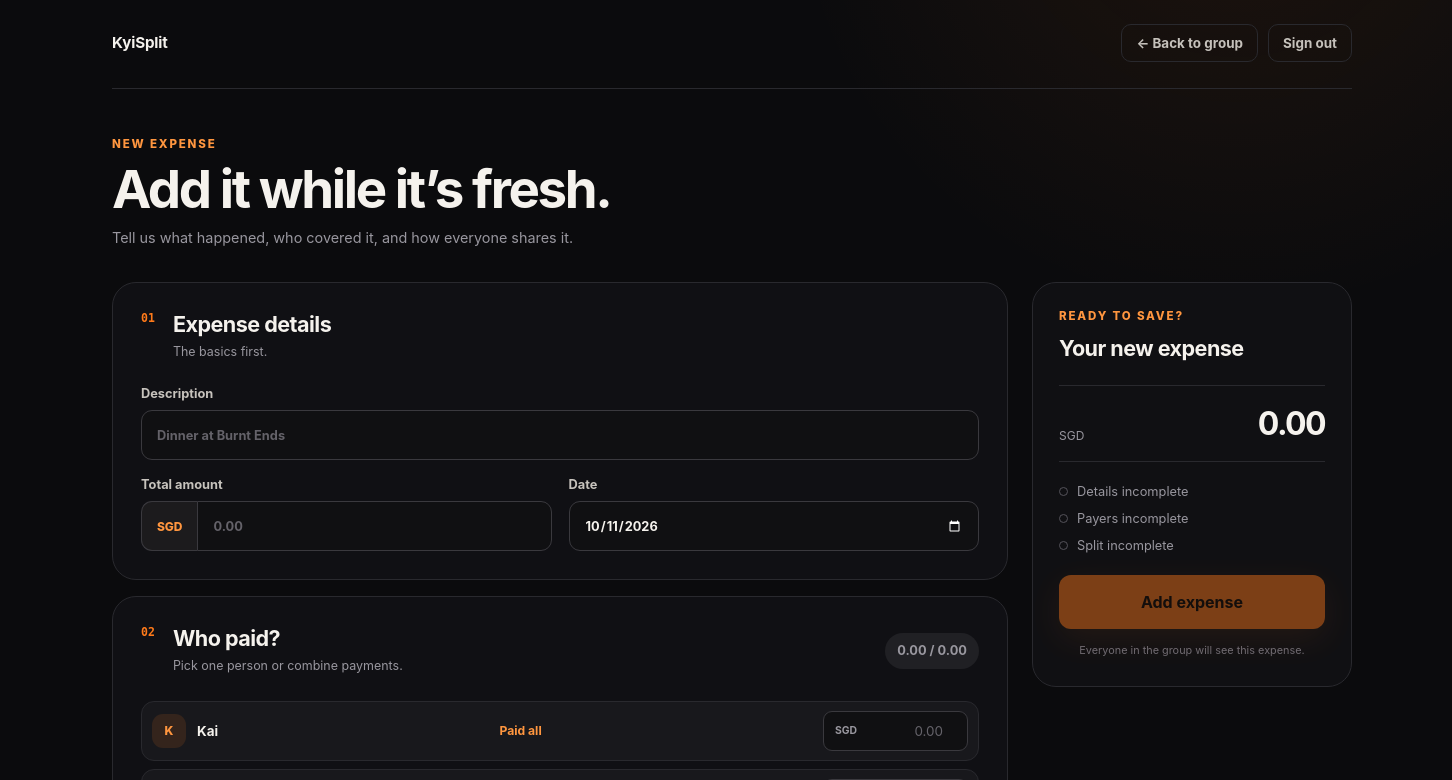
requires payer and split totals and preserves expense values on rejection
Expected: the button "Add expense" is disabled, top-left (1059, 575), bottom-right (1325, 629)
Type "Dinner" into the field labelled "Description" at x=560, y=435, box top-left (141, 410), bottom-right (979, 460)
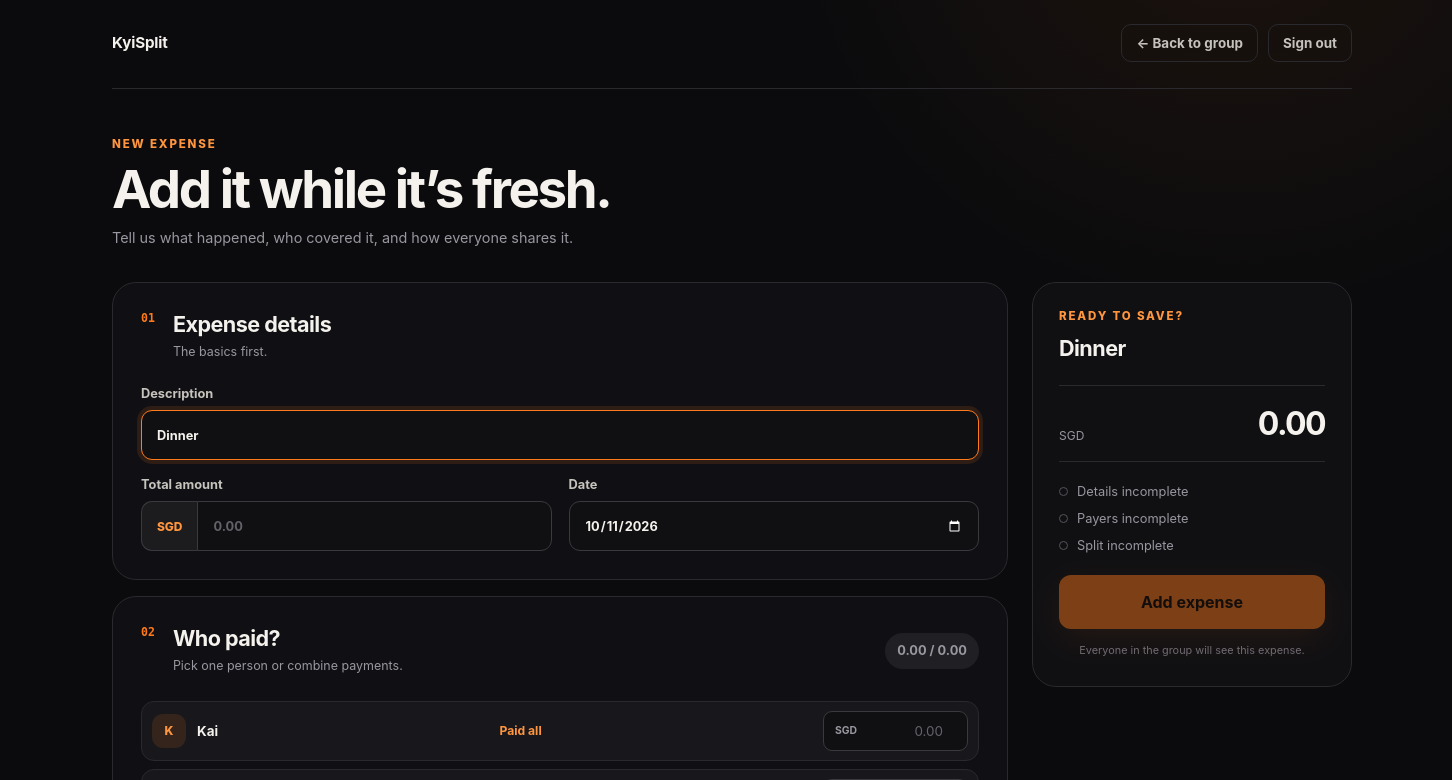
Type "10.00" into the number field labelled "Total amount" at x=374, y=526, box top-left (197, 501), bottom-right (552, 551)
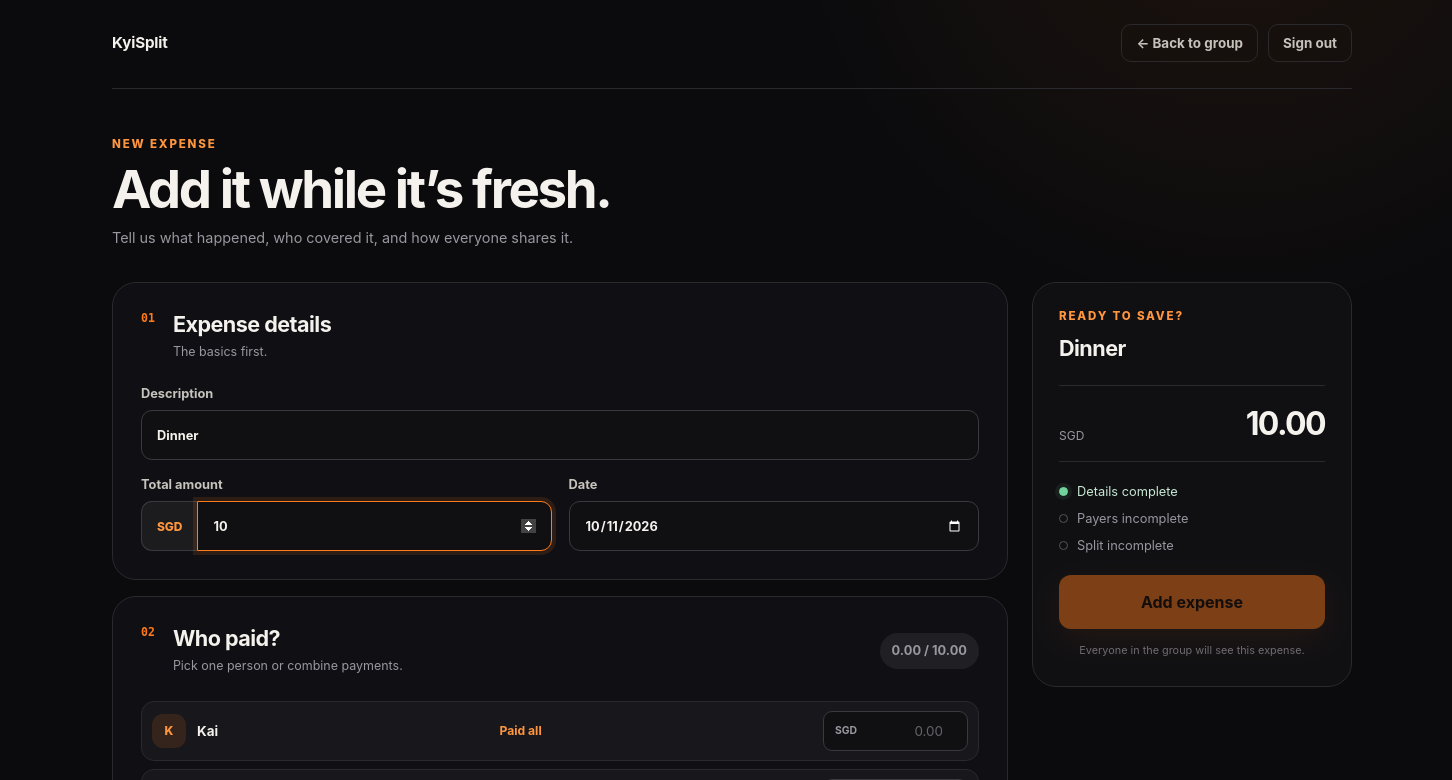
Type "2026-07-15" into the date field labelled "Date" at x=774, y=526, box top-left (568, 501), bottom-right (979, 551)
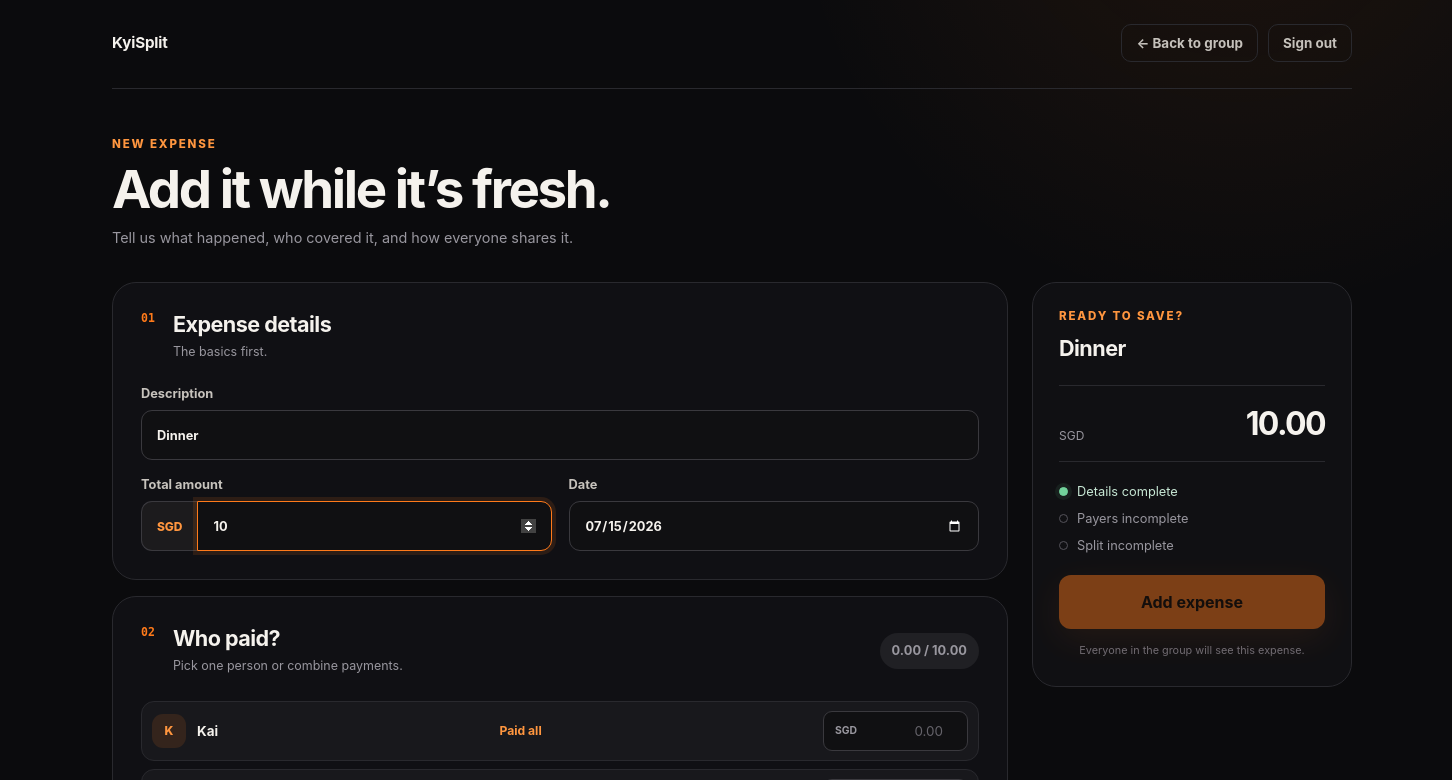
Expected: the button with aria-label "Expense currency: SGD" is shown, top-left (141, 501), bottom-right (197, 551)
Expected: the button "Add expense" is disabled, top-left (1059, 575), bottom-right (1325, 629)
Click the button with aria-label "Paid all for Kai" at x=521, y=731, box top-left (499, 723), bottom-right (542, 738)
(page scrolled)
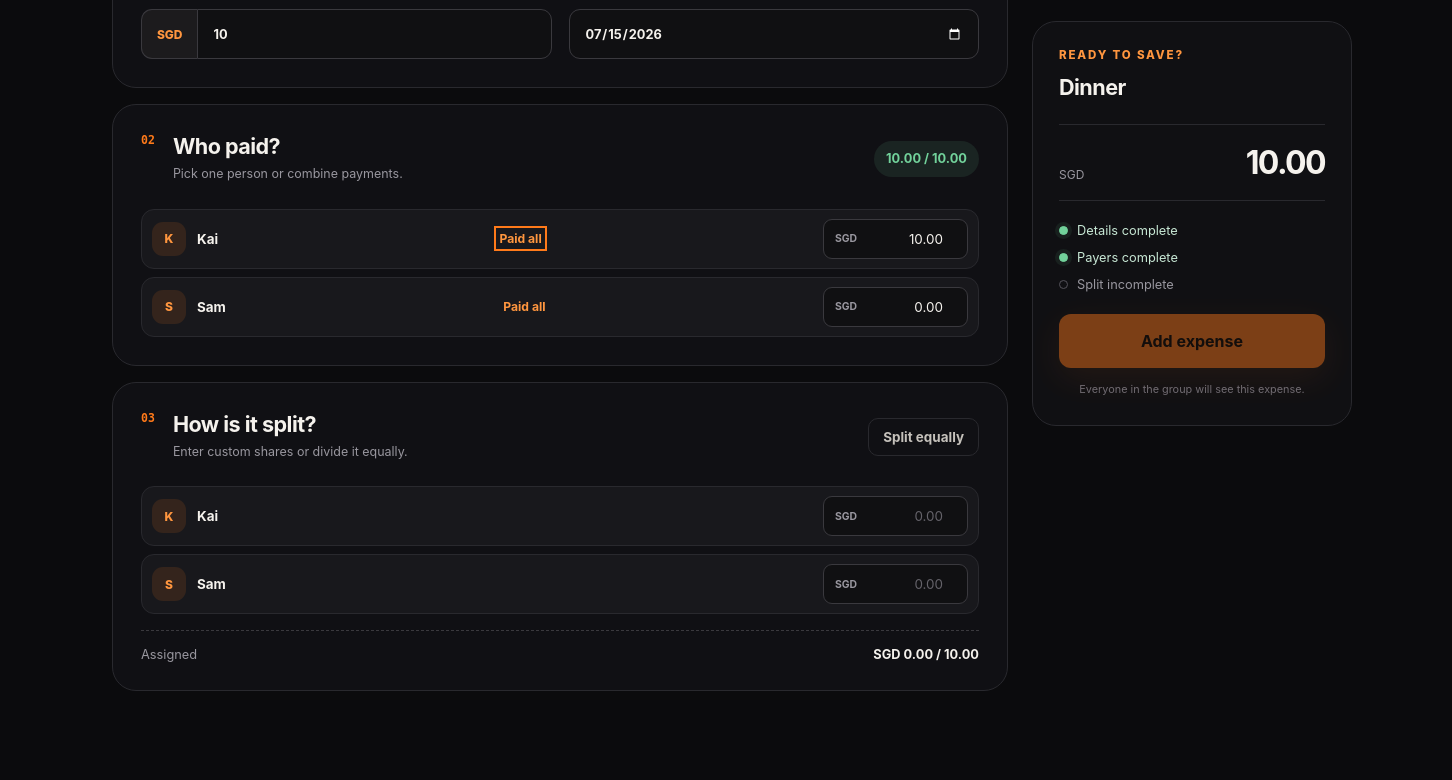
Click the button "Split equally" at x=924, y=436, box top-left (868, 418), bottom-right (979, 456)
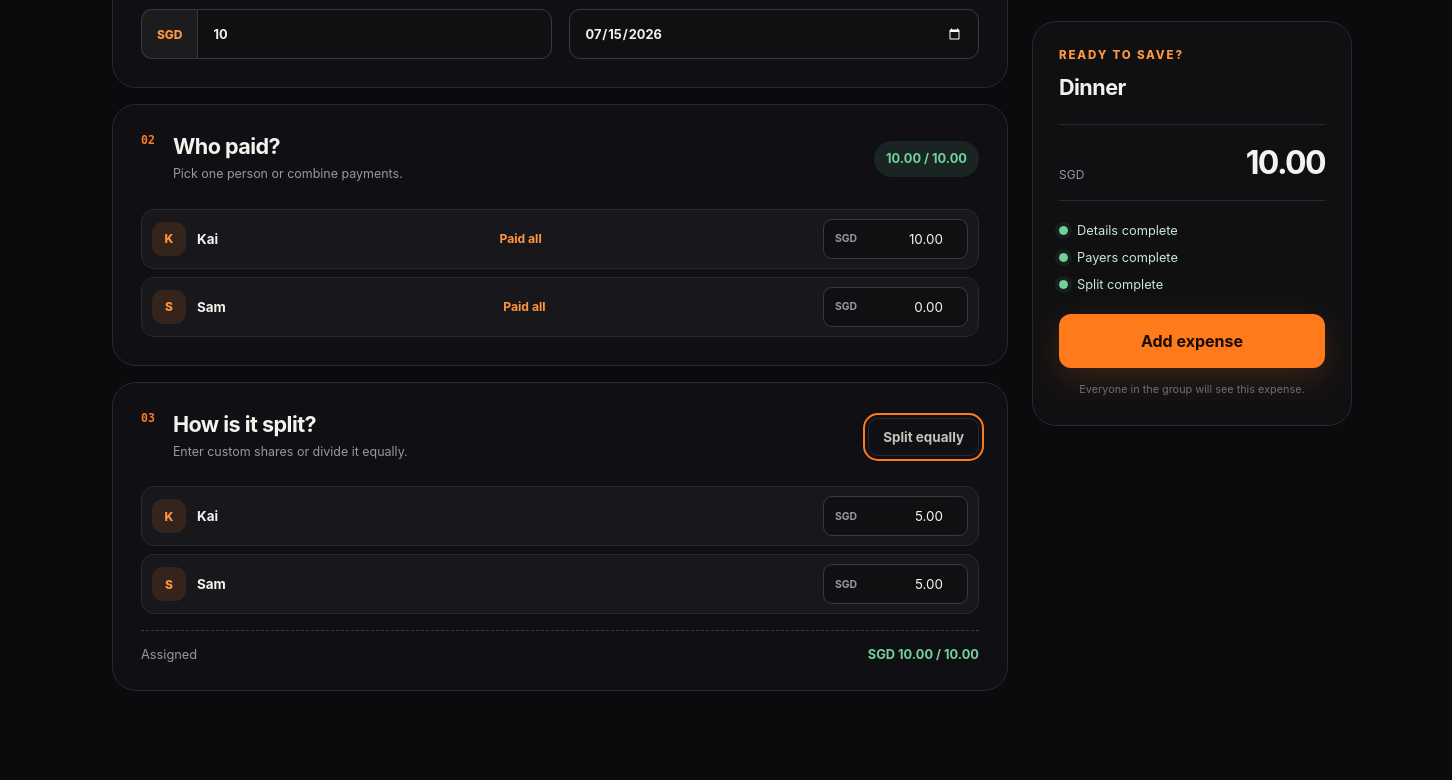
Now the button "Add expense" is enabled
Click the button "Add expense" at x=1192, y=341, box top-left (1059, 314), bottom-right (1325, 368)
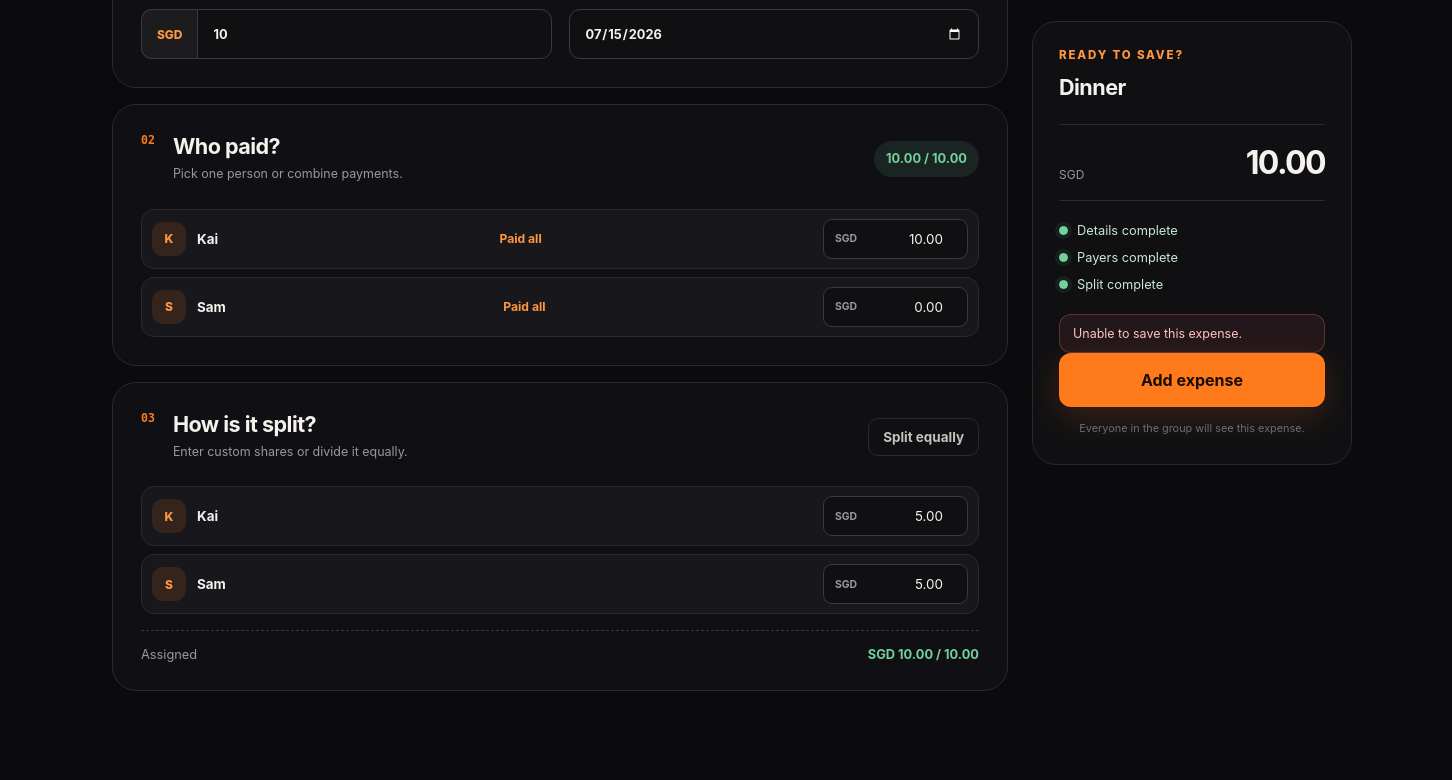
Now the number field labelled "Total amount" holds "10", box top-left (197, 9), bottom-right (552, 59)
Now the number field named "Kai paid amount" holds "10", box top-left (857, 220), bottom-right (967, 258)
Now the message reads "Unable to save this expense.", box top-left (1073, 326), bottom-right (1242, 341)
